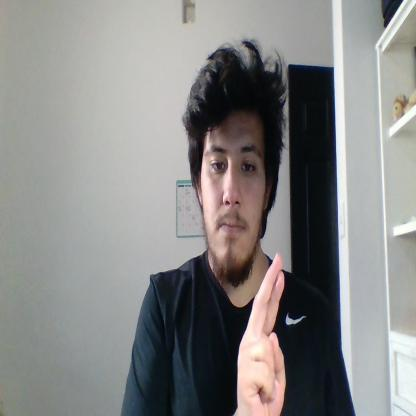R: (237, 252, 286, 416)
